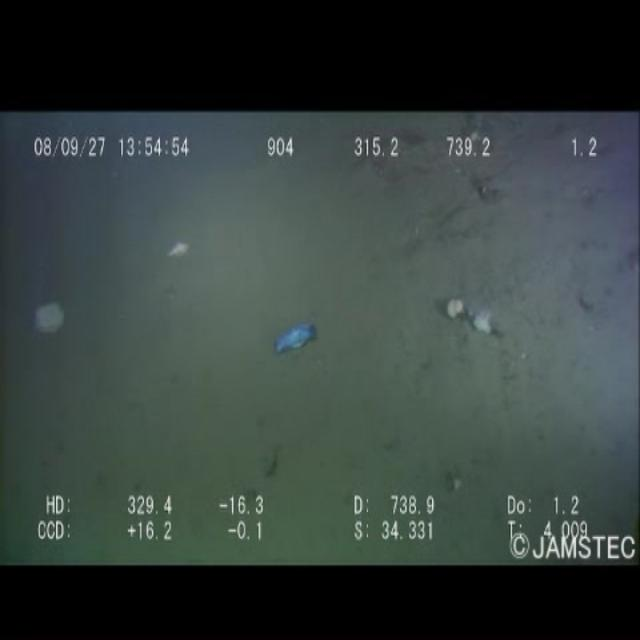Litter: (263, 312, 326, 368)
